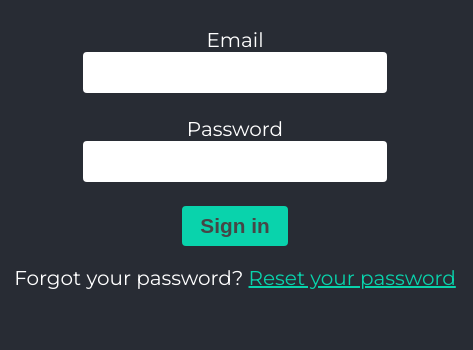
Test case: Login form error handling › it should warn for empty email
Type "password!" into the password field labelled "Password" at (235, 161), box [83,141,387,182]
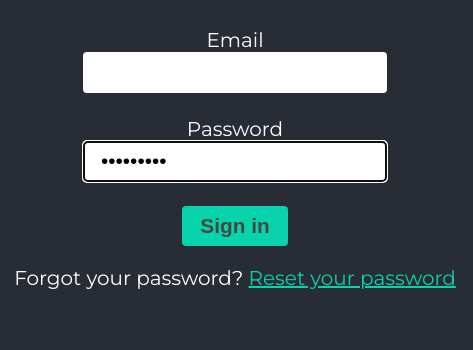
Click the button at (235, 226), box [182,206,288,246]
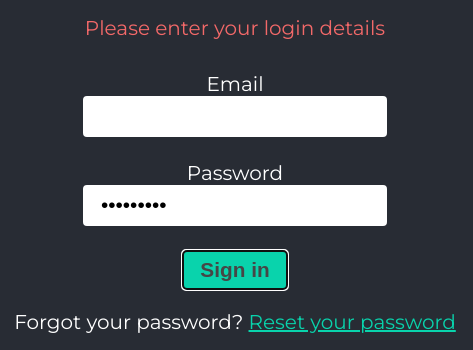
Now the text with test id "login-errors" reads "Please enter your login details", box [85,16,385,40]
